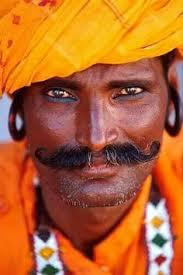s.black: (116, 101, 155, 144)
